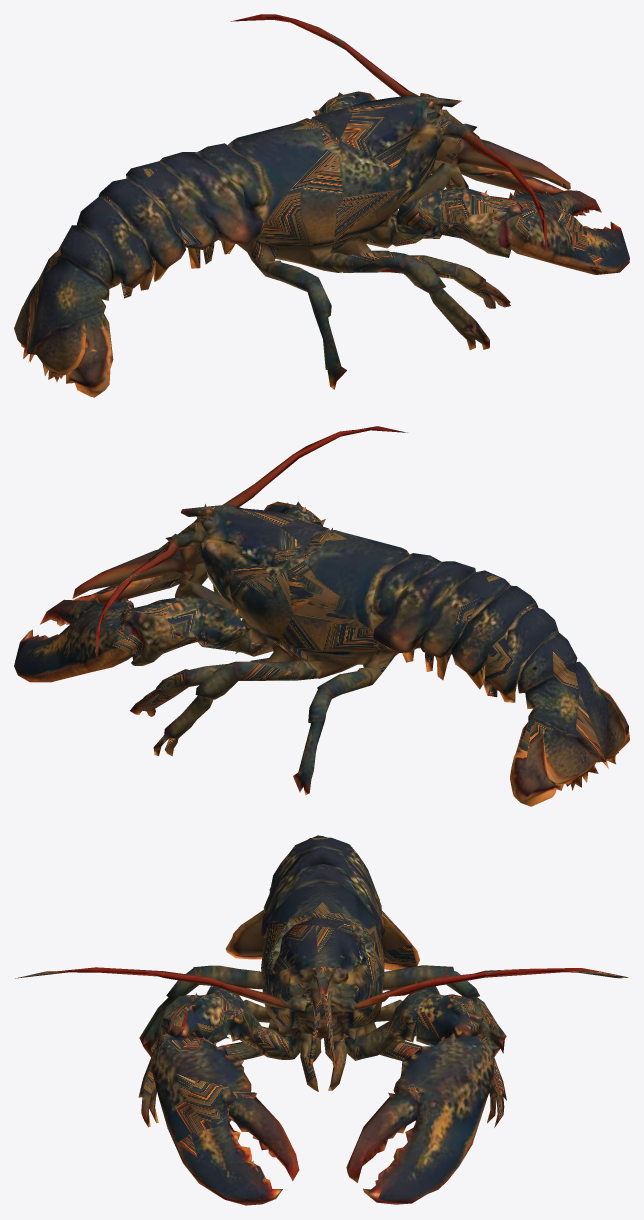
File: kreeft.glb
3 renders of one model, top to bottom at view 1: azimuth 30°, elevation 25°; view 2: azimuth 150°, elevation 25°; view 3: azimuth 270°, elevation 25°, orthographic. The views are drawn at different scales.
Visible parts, largest first — view 1: tripo_node_6c07b7b6-4e7e-4419-bf1f-ee99ddabd066; view 2: tripo_node_6c07b7b6-4e7e-4419-bf1f-ee99ddabd066; view 3: tripo_node_6c07b7b6-4e7e-4419-bf1f-ee99ddabd066.
Boxes of the visible parts, bbox=[...] form: tripo_node_6c07b7b6-4e7e-4419-bf1f-ee99ddabd066: bbox=[14, 14, 629, 397]; tripo_node_6c07b7b6-4e7e-4419-bf1f-ee99ddabd066: bbox=[14, 426, 629, 806]; tripo_node_6c07b7b6-4e7e-4419-bf1f-ee99ddabd066: bbox=[15, 835, 628, 1205].
Size of the model in its own units: 0.9321 by 0.2989 by 0.9001.
1 material, 1 textured.
